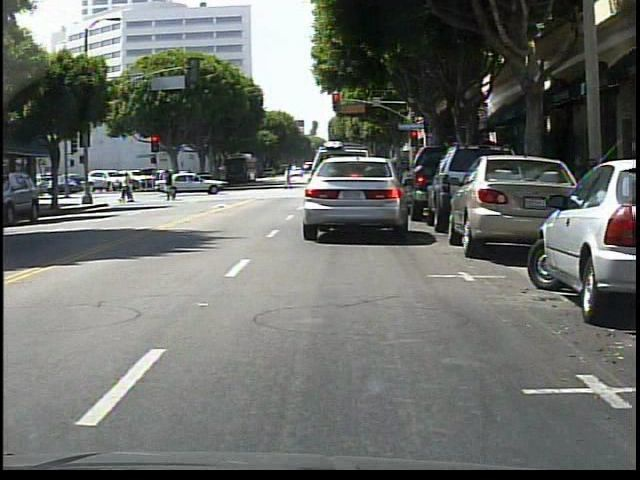person: (119, 173, 136, 205), (164, 169, 177, 202), (284, 166, 293, 190)
